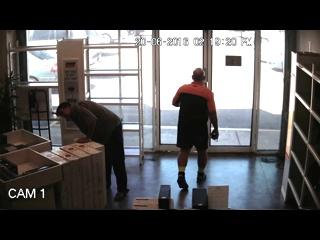Normal: (56, 100, 130, 201), (172, 68, 219, 190)
